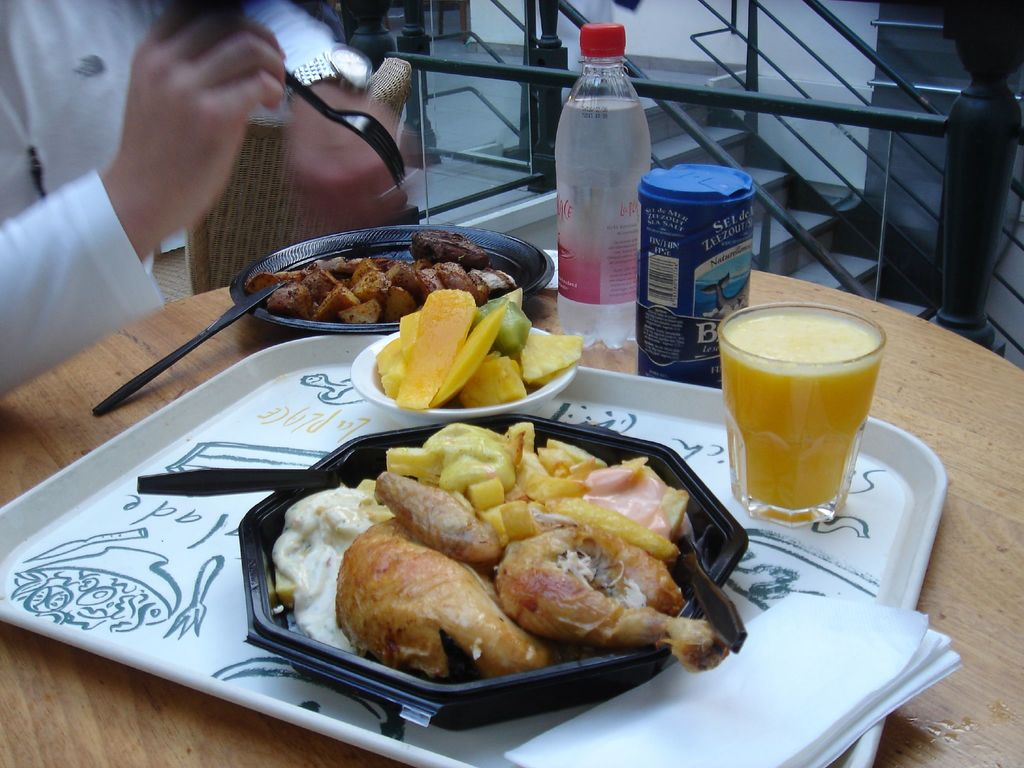French fries: (363, 409, 684, 554)
